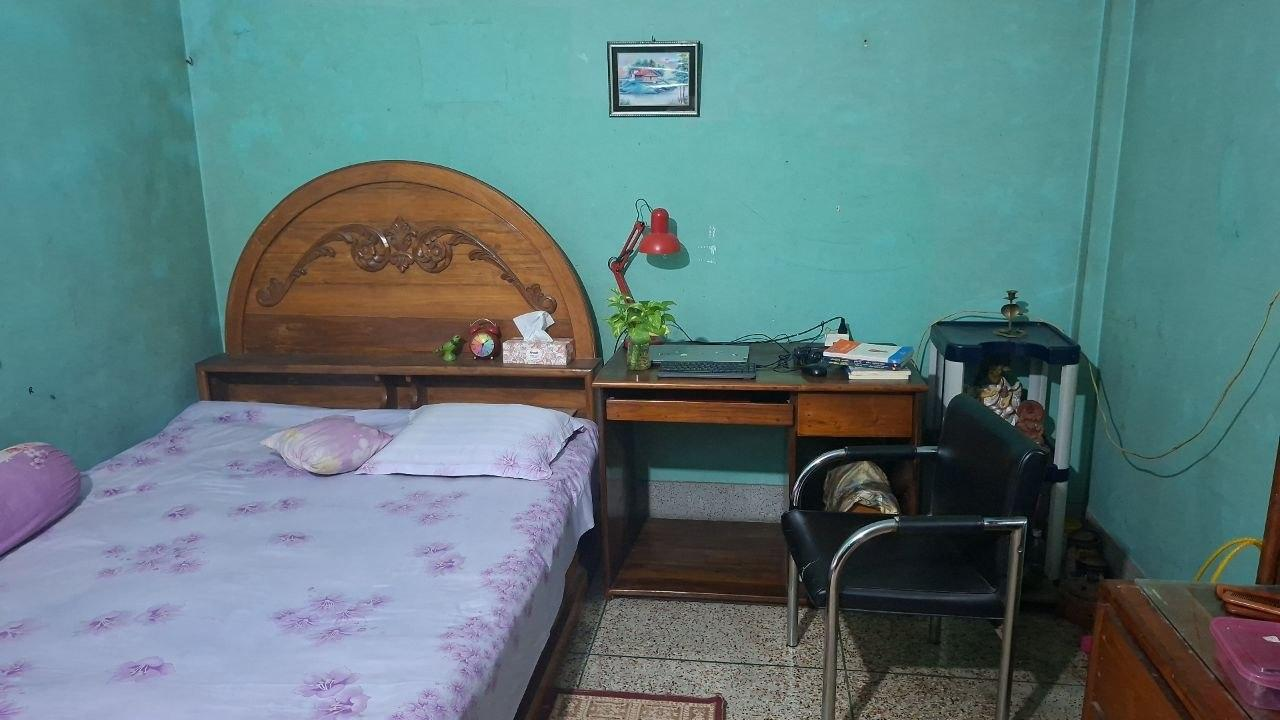Book: (837, 339, 917, 383)
Box: (496, 329, 584, 370)
Chair: (783, 393, 1070, 720)
Clock: (460, 318, 507, 364)
Keyboard: (659, 360, 783, 385)
Laptop: (659, 333, 777, 375)
Mouse: (791, 354, 839, 389)
Photo: (607, 44, 699, 121)
Pillow: (383, 402, 580, 477), (243, 406, 402, 488), (0, 437, 94, 573)
Table Lamp: (603, 188, 687, 370)
